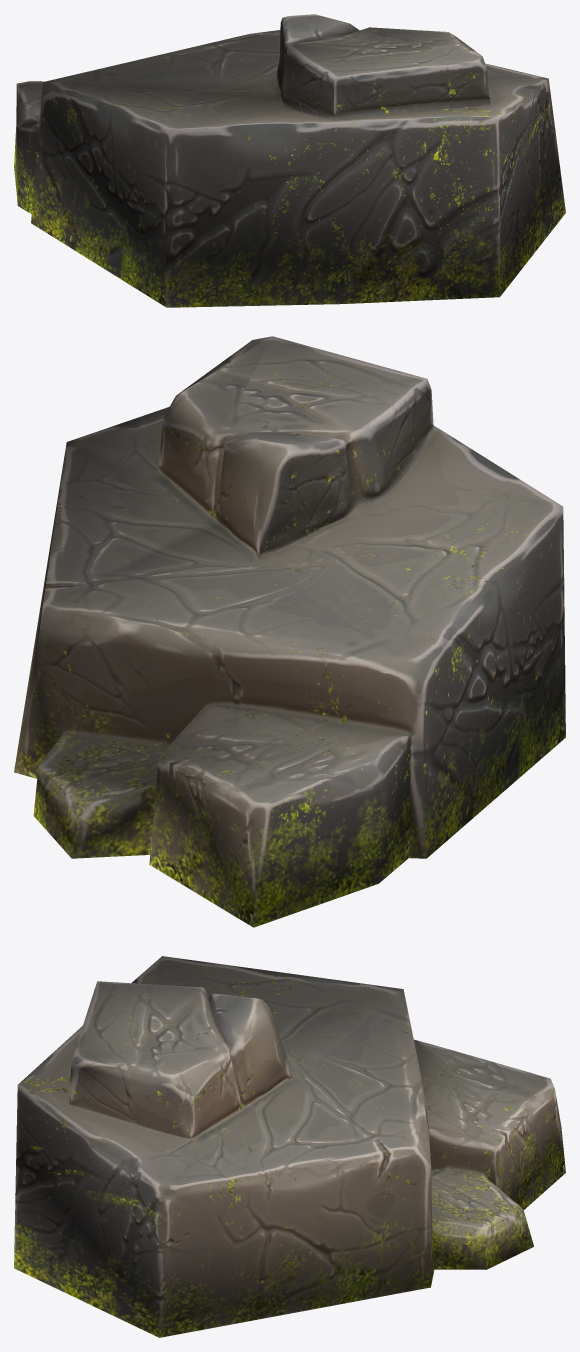
The model's file is ROK0110030.fbx.
3 renders of one model, top to bottom at view 1: azimuth 30°, elevation 25°; view 2: azimuth 150°, elevation 25°; view 3: azimuth 270°, elevation 25°, orthographic. The views are drawn at different scales.
Visible parts, largest first — view 1: smROK0110030; view 2: smROK0110030; view 3: smROK0110030.
Part boxes in pixels (box(x1,y1,x2,y2)): smROK0110030: box(14, 14, 565, 307); smROK0110030: box(14, 336, 565, 927); smROK0110030: box(14, 956, 565, 1337).
Bounding box in the file's own units: 143 × 78.3 × 162.
1 material, 1 textured.
